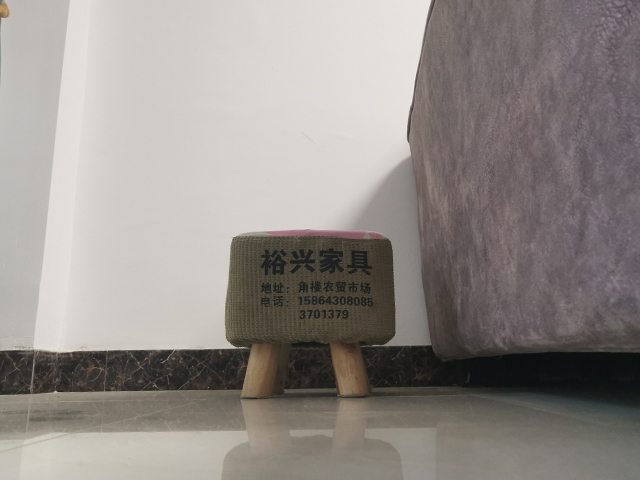sofa: (406, 1, 640, 388)
stool: (223, 225, 399, 400)
